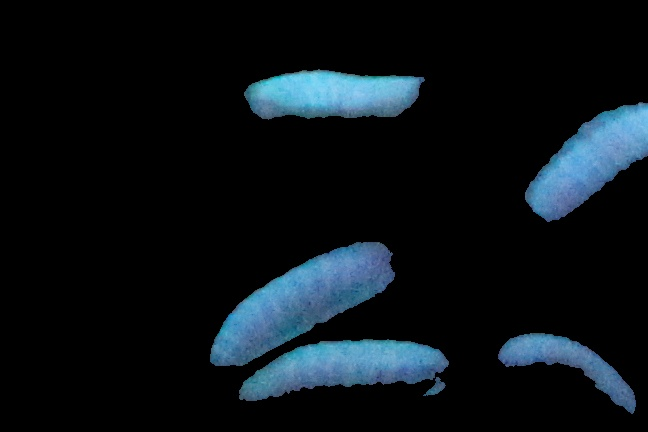larvae: (210, 228, 408, 380), (237, 336, 452, 417), (525, 93, 648, 229), (491, 317, 638, 421), (240, 69, 437, 123)
